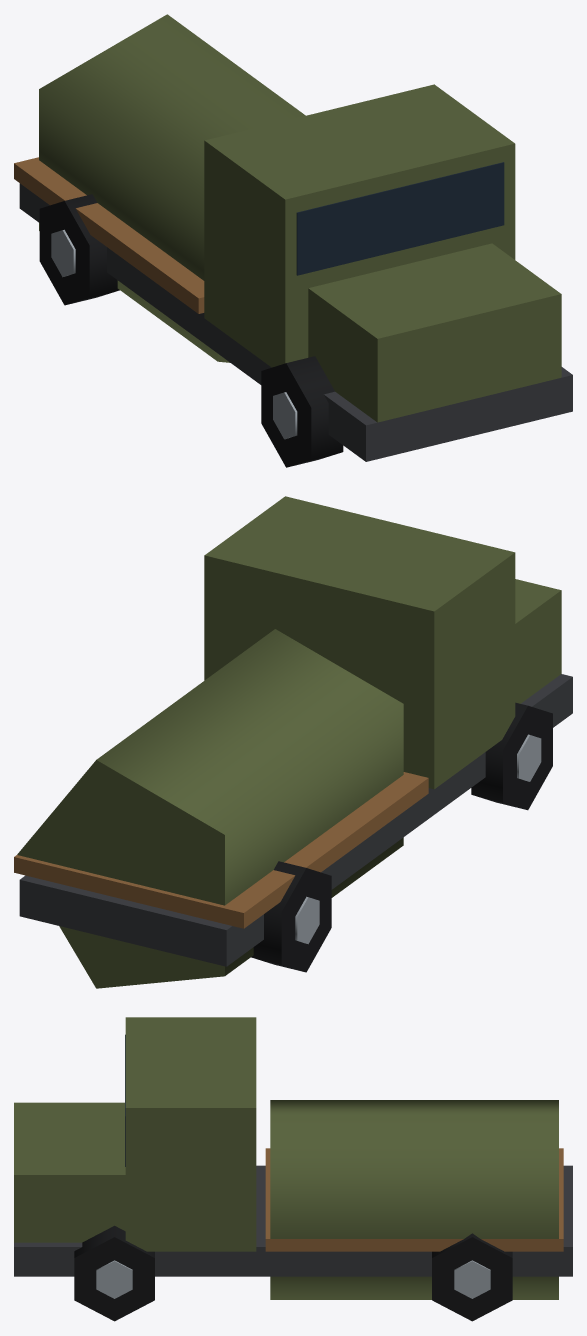
Rendered from veh_ground_truck_a05_lod1.glb.
3 renders of one model, top to bottom at view 1: azimuth 30°, elevation 25°; view 2: azimuth 150°, elevation 25°; view 3: azimuth 270°, elevation 25°, orthographic. The views are drawn at different scales.
Parts seen in each view (by area): view 1: body, wheel_2, wheel_0; view 2: body, wheel_0, wheel_2; view 3: body, wheel_3, wheel_1.
Boxes of the visible parts, left/top/right/bottom form: body: left=14, top=14, right=572, bottom=461; wheel_2: left=261, top=356, right=343, bottom=467; wheel_0: left=39, top=194, right=119, bottom=305; body: left=14, top=496, right=572, bottom=988; wheel_0: left=251, top=861, right=331, bottom=972; wheel_2: left=471, top=702, right=552, bottom=810; body: left=14, top=1017, right=572, bottom=1299; wheel_3: left=74, top=1225, right=154, bottom=1321; wheel_1: left=432, top=1233, right=512, bottom=1321.
Bounding box in the file's own units: 2.46 × 2.64 × 6.
